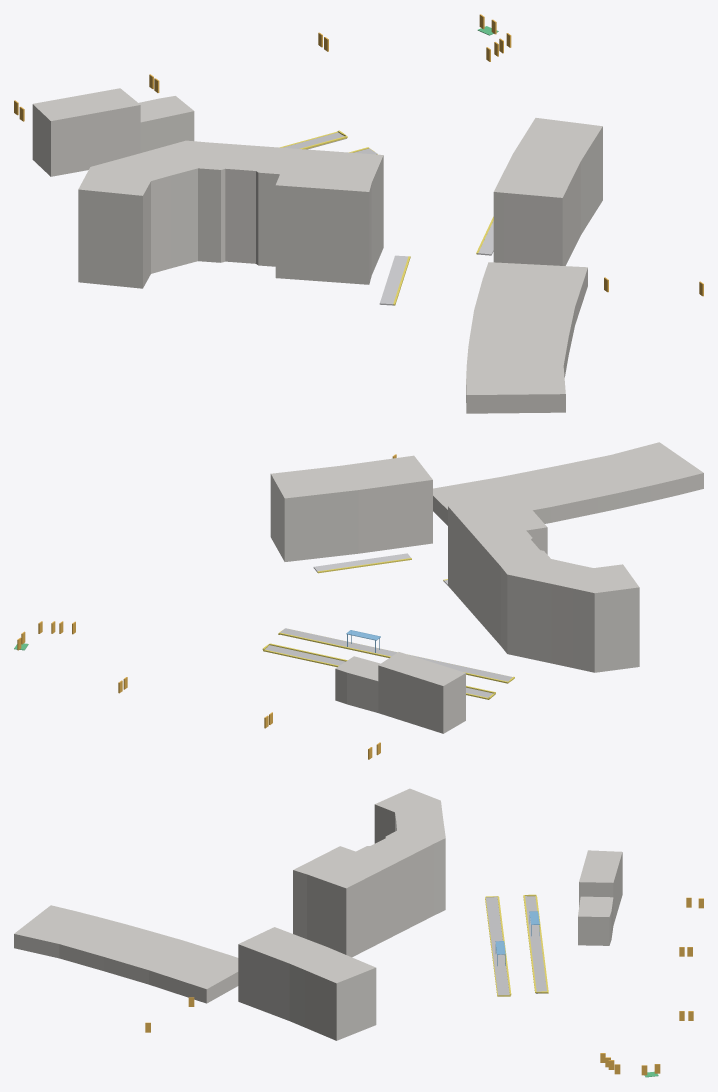
File: 8590041-bern-loryplatz.glb
The picture shows the model from 3 angles, top to bottom: view 1: azimuth 30°, elevation 25°; view 2: azimuth 150°, elevation 25°; view 3: azimuth 270°, elevation 25°; orthographic projection. The views are drawn at different scales.
Parts seen in each view (by area): view 1: building_part@x, platform_body@0, access_point@0; view 2: building_part@x, platform_surface@0, boarding_edge@0, access_point@0, platform_body@0; view 3: building_part@x, platform_surface@0, boarding_edge@0, access_point@0.
Part boxes in pixels (x1=…): building_part@x: x1=32, y1=88, x2=602, y2=413; platform_body@0: x1=379, y1=221, x2=493, y2=305; access_point@0: x1=14, y1=14, x2=703, y2=296; building_part@x: x1=270, y1=442, x2=703, y2=733; platform_surface@0: x1=265, y1=628, x2=512, y2=697; boarding_edge@0: x1=262, y1=558, x2=514, y2=699; access_point@0: x1=17, y1=454, x2=396, y2=759; platform_body@0: x1=313, y1=553, x2=447, y2=585; building_part@x: x1=14, y1=788, x2=622, y2=1040; platform_surface@0: x1=485, y1=896, x2=547, y2=995; boarding_edge@0: x1=485, y1=894, x2=548, y2=996; access_point@0: x1=145, y1=897, x2=703, y2=1075.
Bounding box in the file's own units: 113 × 18.65 × 152.
